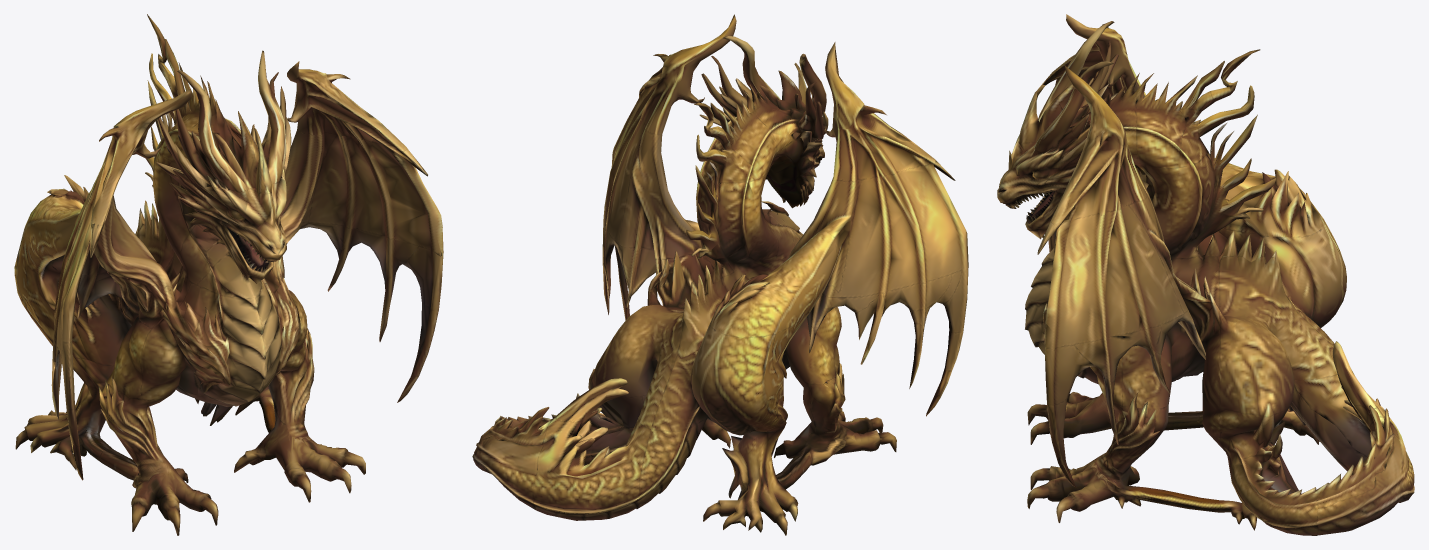
File: reference_dragon_v3_decimated.glb
3 renders of one model, left to right at view 1: azimuth 30°, elevation 25°; view 2: azimuth 150°, elevation 25°; view 3: azimuth 270°, elevation 25°, orthographic. The views are drawn at different scales.
Parts seen in each view (by area): view 1: tmp9i4p16kvobj; view 2: tmp9i4p16kvobj; view 3: tmp9i4p16kvobj.
Boxes of the visible parts, x1,y1,x2,y2 form: tmp9i4p16kvobj: (14, 14, 443, 535); tmp9i4p16kvobj: (472, 14, 968, 535); tmp9i4p16kvobj: (997, 14, 1414, 535).
Size of the model in its own units: 0.9102 by 0.9991 by 0.8673.
1 material, 1 textured.
